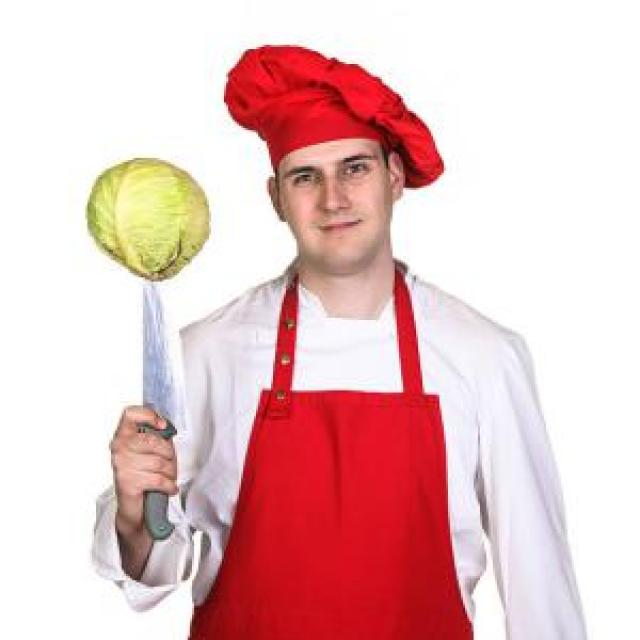knife: (138, 269, 184, 550)
